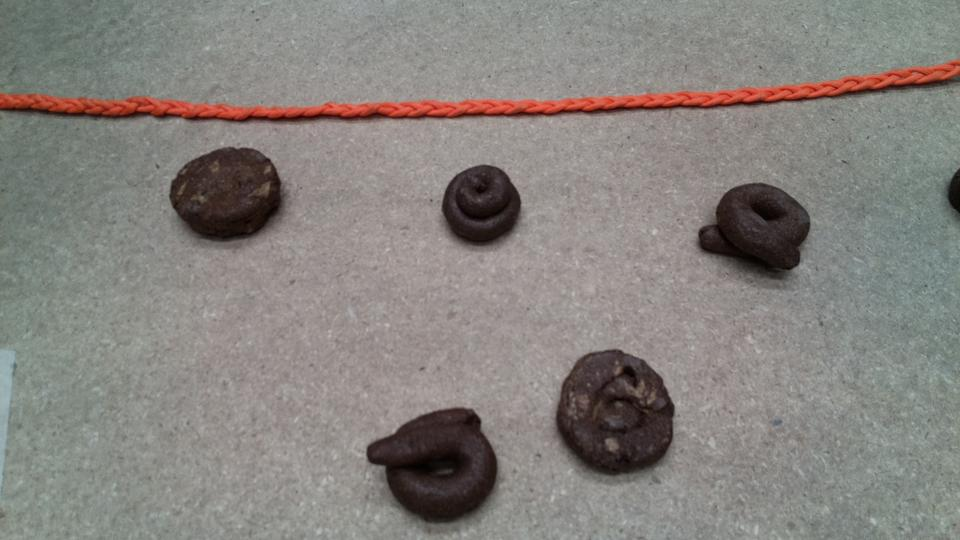poop: (365, 395, 507, 522), (549, 346, 683, 475), (694, 174, 822, 282), (162, 141, 288, 248), (440, 163, 521, 246)
rope: (1, 81, 756, 129), (732, 56, 960, 107)
